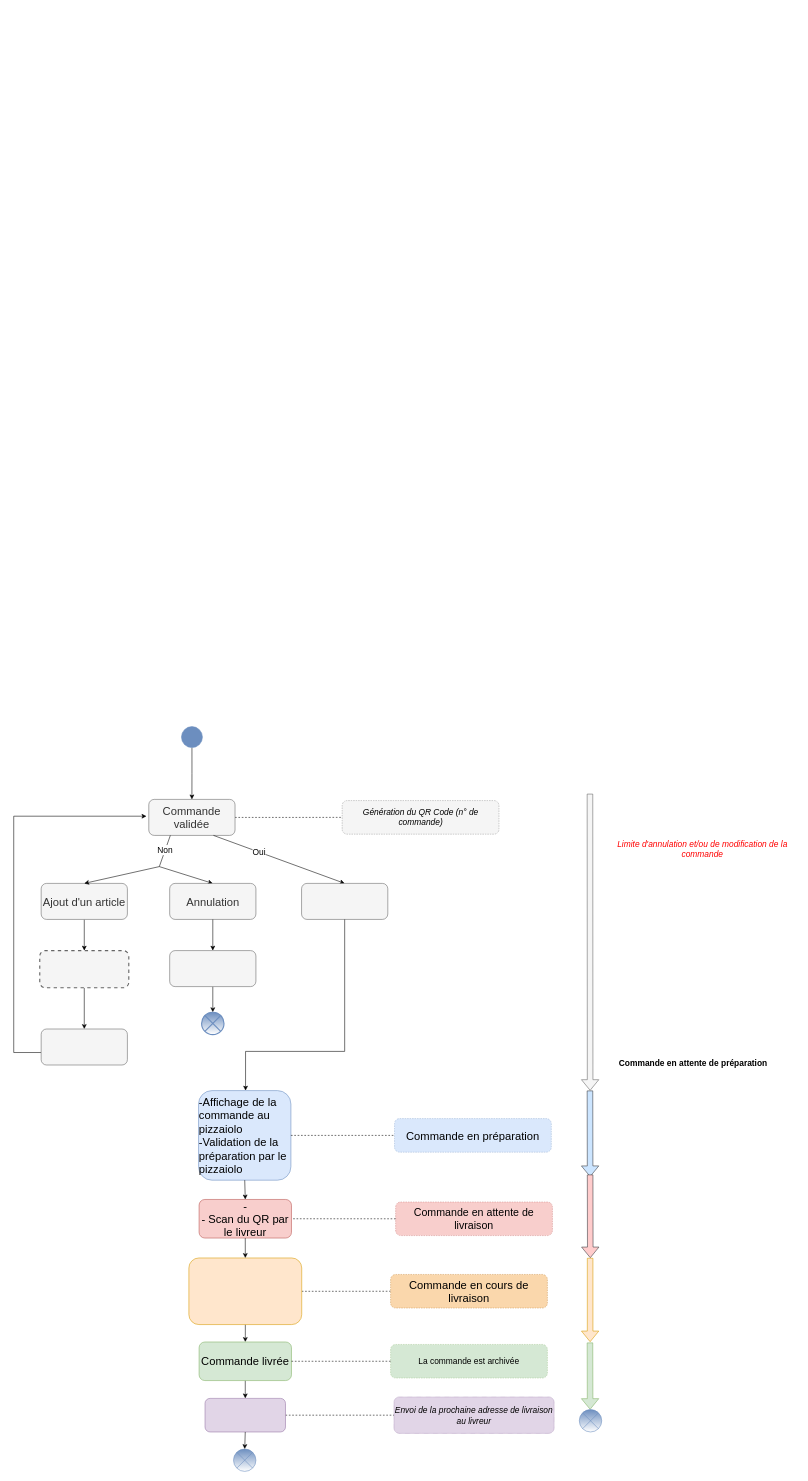
Some shapes in this 808 by 1481 pixel diagram are drawn without their labels. The shapes that lost their labels are listed below. From the top down, each one's centre as x and y in pixels, then its label:
the point at 344,901: Réglement
the point at 84,969: Retour "Création panier"
the point at 212,968: Retour au catalogue
the point at 84,1046: Commande modifiée
the point at 245,1291: Envoi d'un message au client l'informant de la livraison
the point at 244,1415: Livraison suivante
